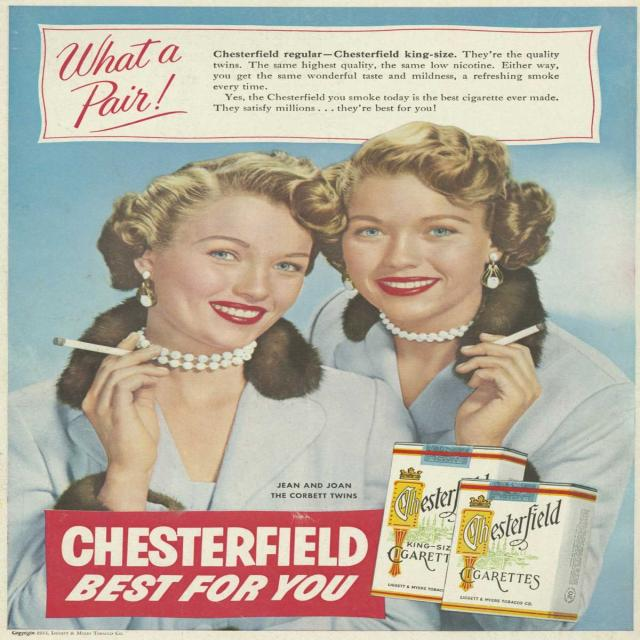Smooking: (54, 324, 128, 367), (487, 317, 557, 347)
